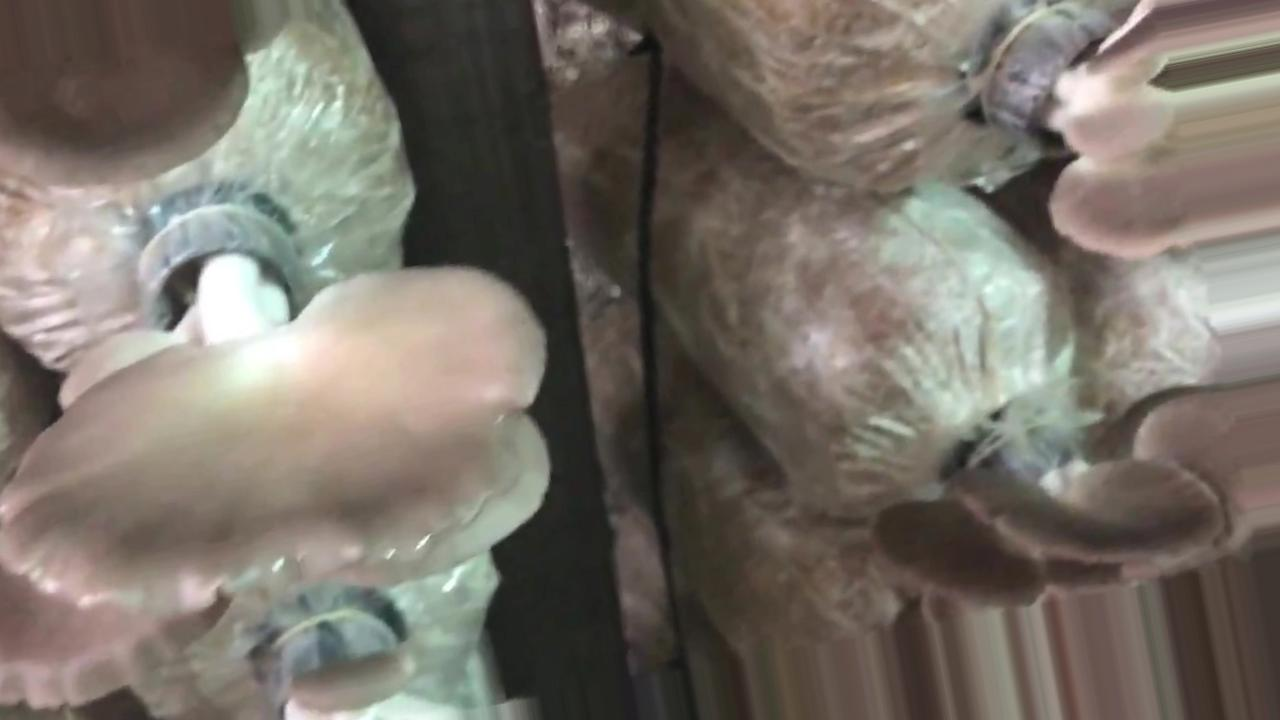nam: (1, 203, 556, 620), (877, 380, 1280, 612), (1, 1, 296, 192)
